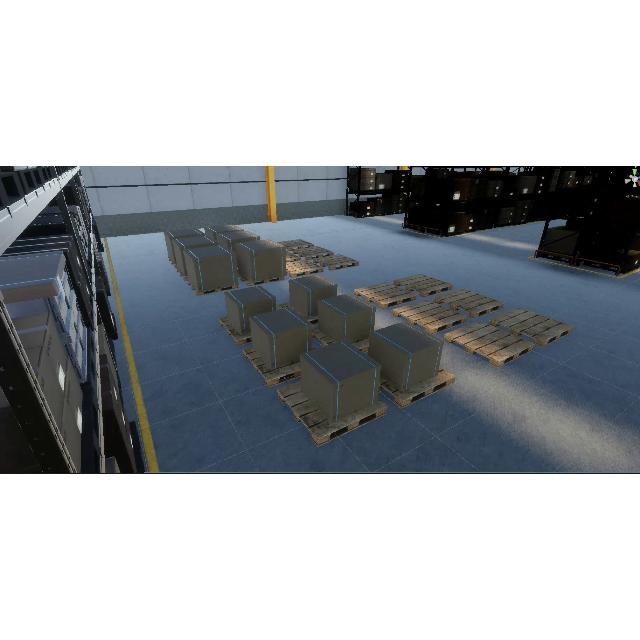wooden_pallet: (277, 379, 388, 448), (444, 321, 536, 368), (489, 307, 574, 347), (379, 364, 454, 407), (393, 299, 469, 334), (242, 344, 301, 387), (433, 288, 505, 318), (352, 283, 415, 311), (393, 274, 454, 298), (218, 315, 253, 347), (186, 277, 240, 296), (313, 253, 359, 271), (286, 259, 324, 278), (238, 271, 286, 286), (293, 246, 334, 259), (276, 238, 314, 252), (286, 250, 301, 263)
